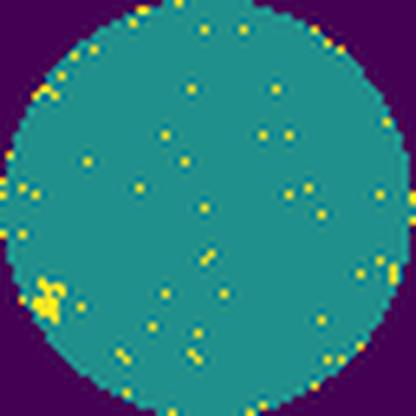Edge-Loc: (37, 280, 69, 322)
